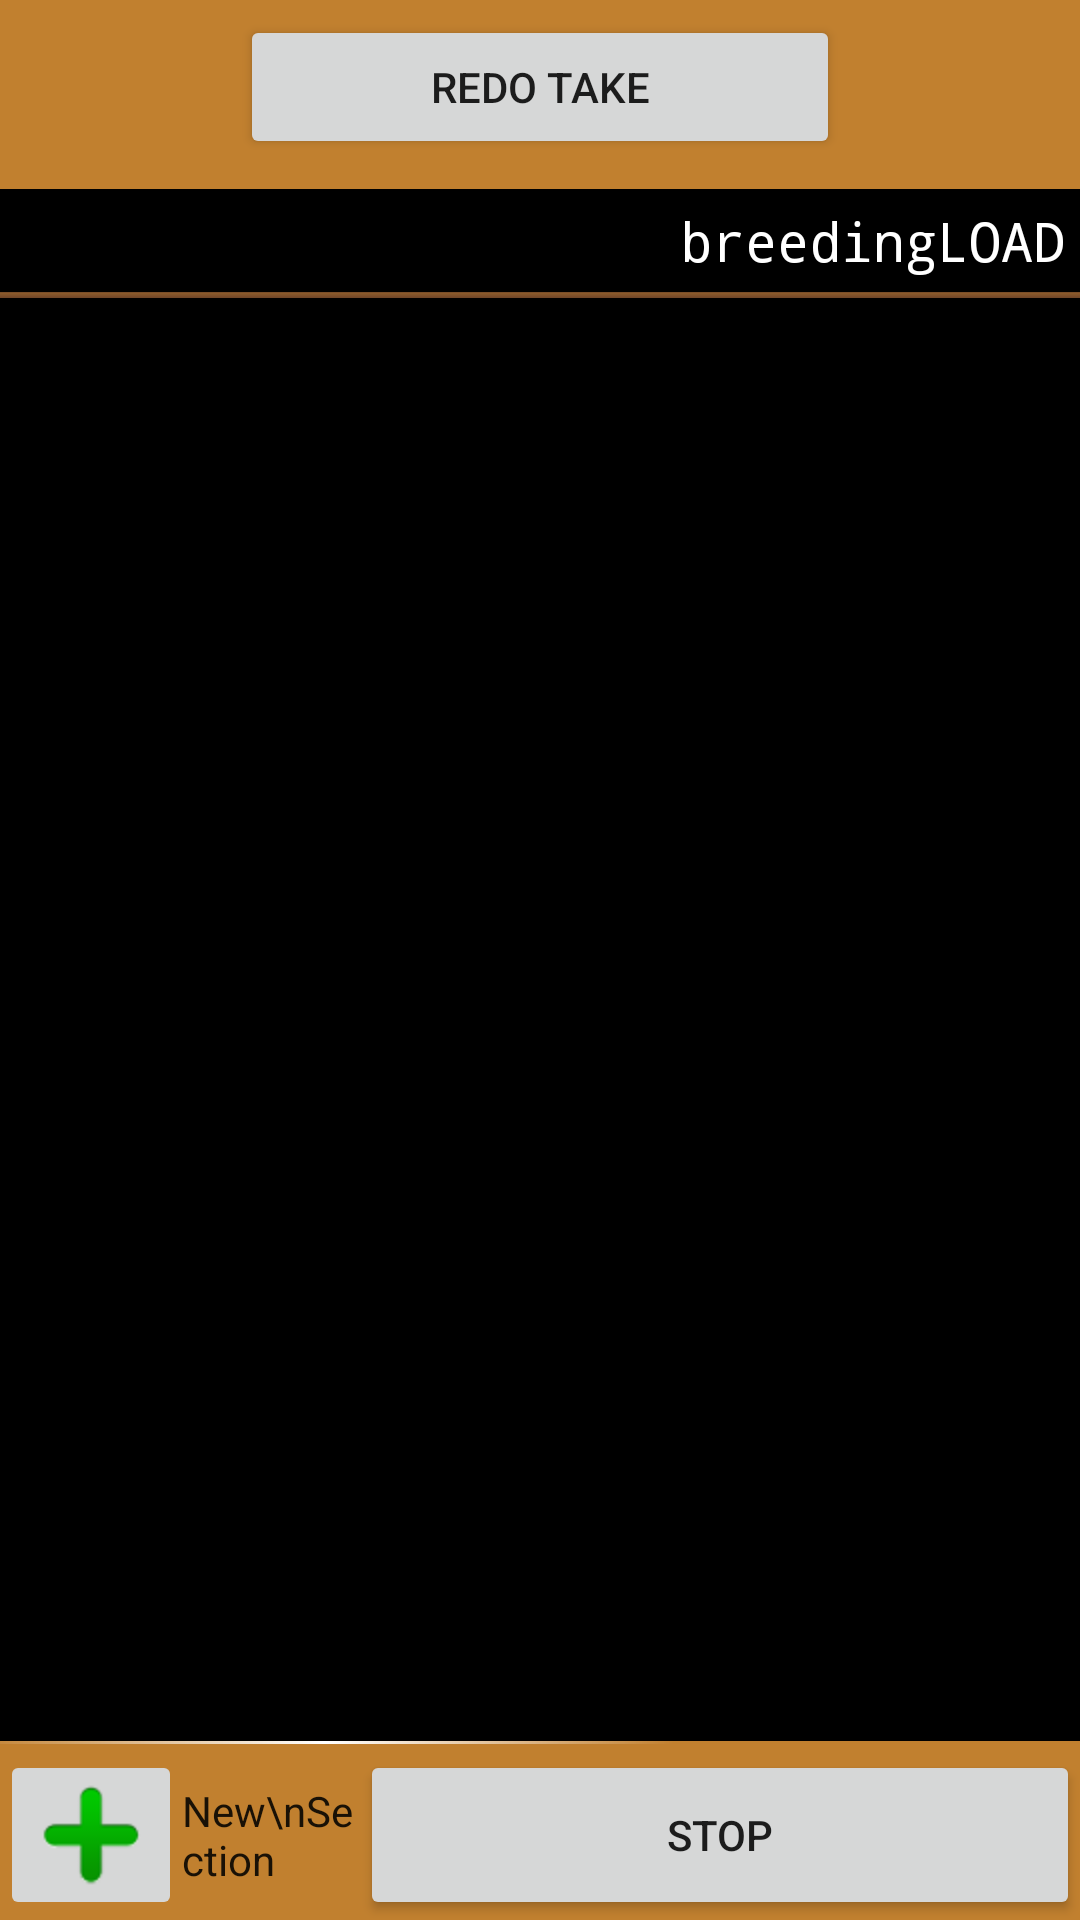

Icons on this 1080w x 1920h Android screen, each with its box as (x1, y1, x2, y2):
plusbutton: (12, 1768, 170, 1902)
